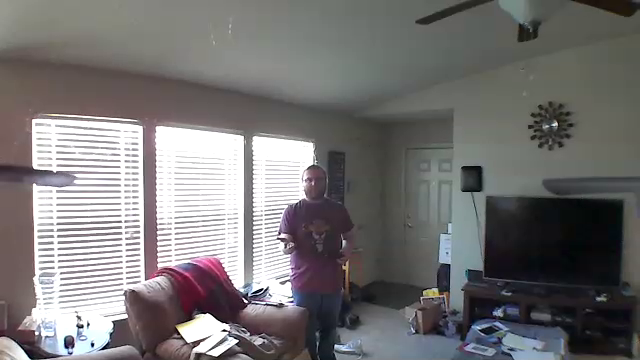land: (273, 234, 301, 251)
